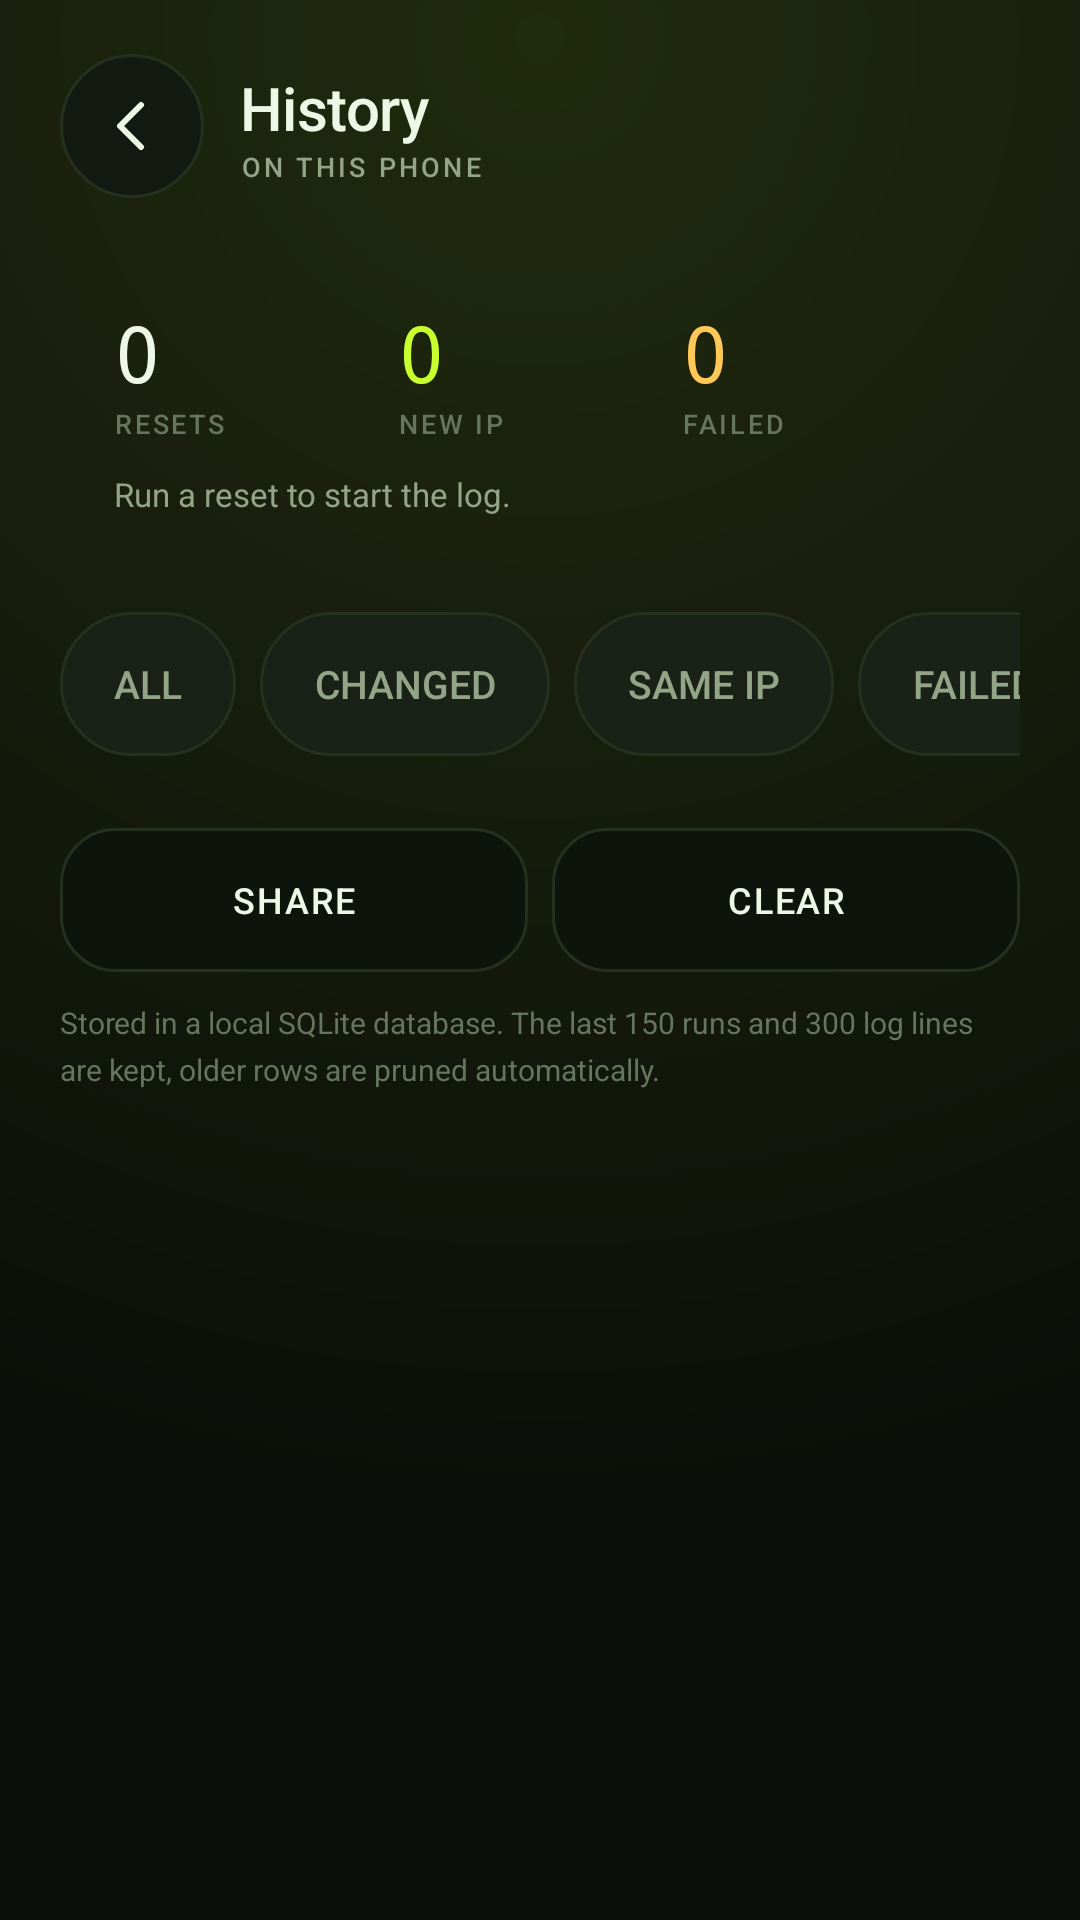

Where icons sit on this 1080px×1920px app screen, as (x1, y1, x2, y2):
Back: (60, 54, 204, 198)
